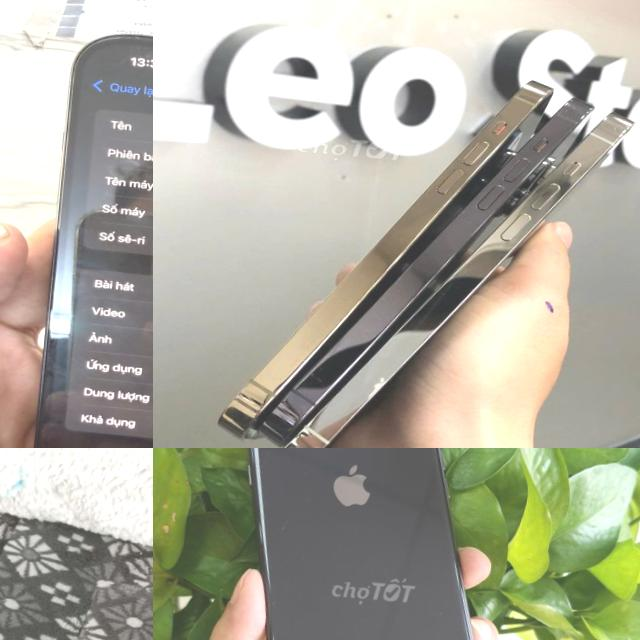gen_14: (220, 80, 551, 437)
gen_15: (0, 17, 153, 448)
gen_7_8: (207, 448, 528, 640)
